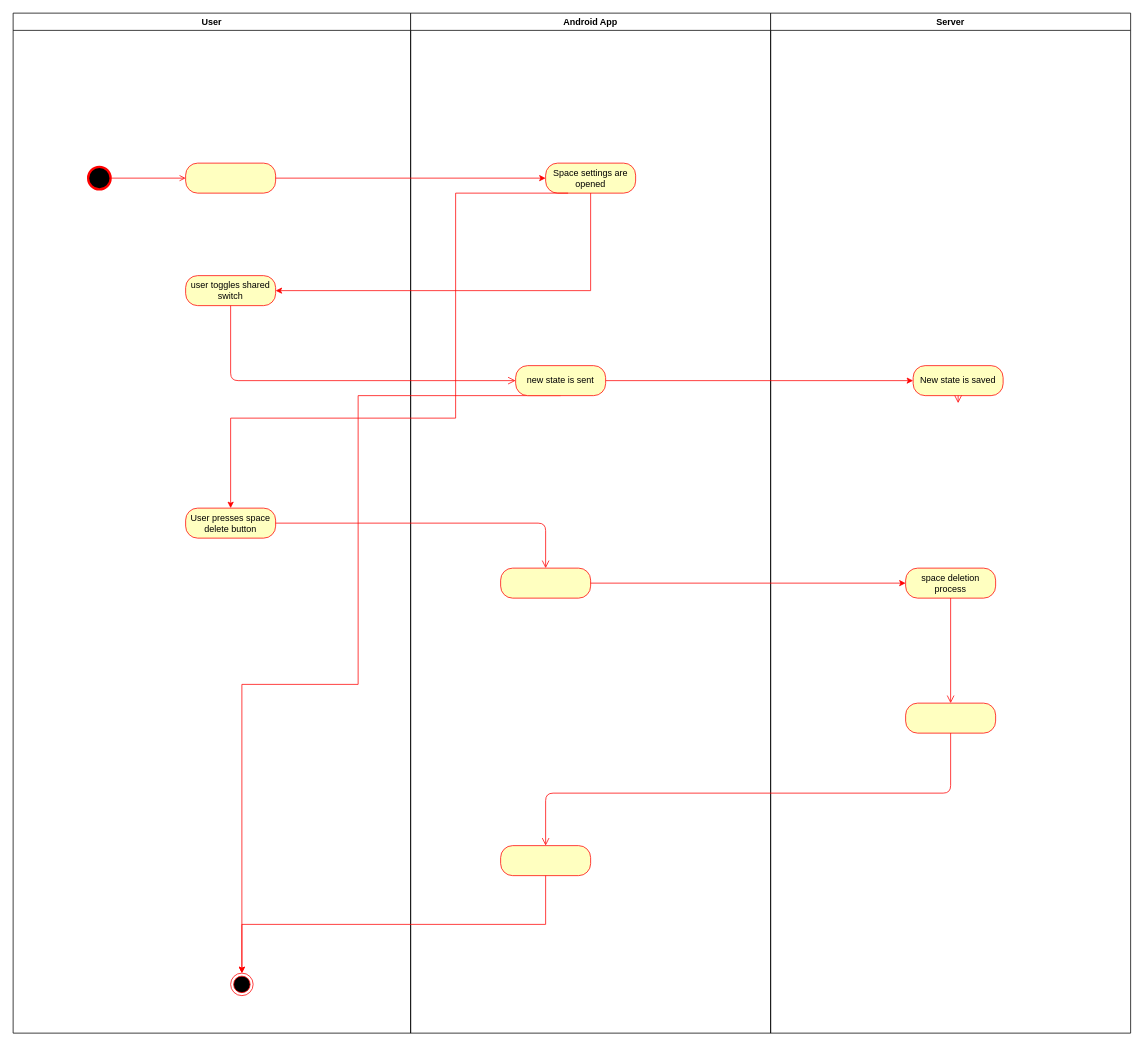
This 1144x1046 diagram has some shape labels left out. Each missing label, with the box of its shape:
notifies that space deleted successfully: (905, 702, 996, 733)
Space is closed: (500, 845, 591, 876)
Space is deleted: (500, 567, 591, 598)
User clicks on space settings button: (185, 162, 276, 193)
